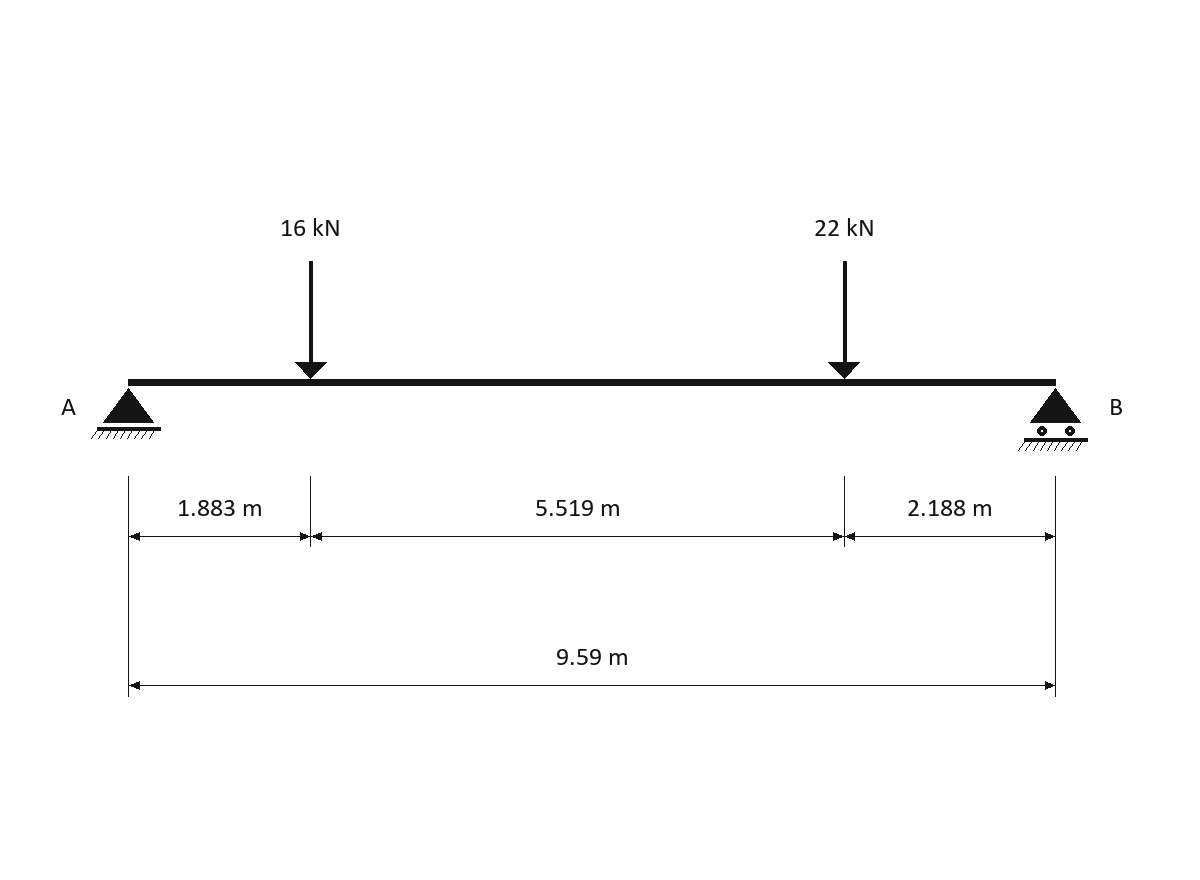pin_support: (91, 388, 161, 439)
point_load: (295, 261, 327, 379), (828, 261, 860, 379)
roller_support: (1018, 388, 1088, 451)
